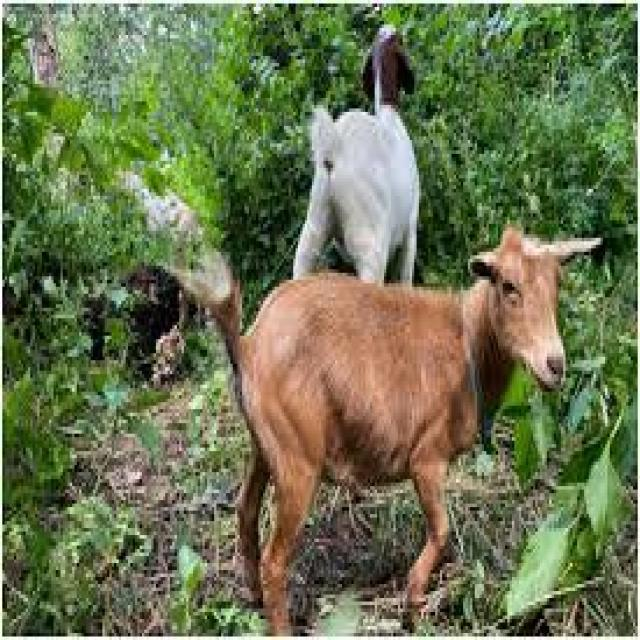Goat: (190, 225, 582, 615), (281, 15, 420, 275)
